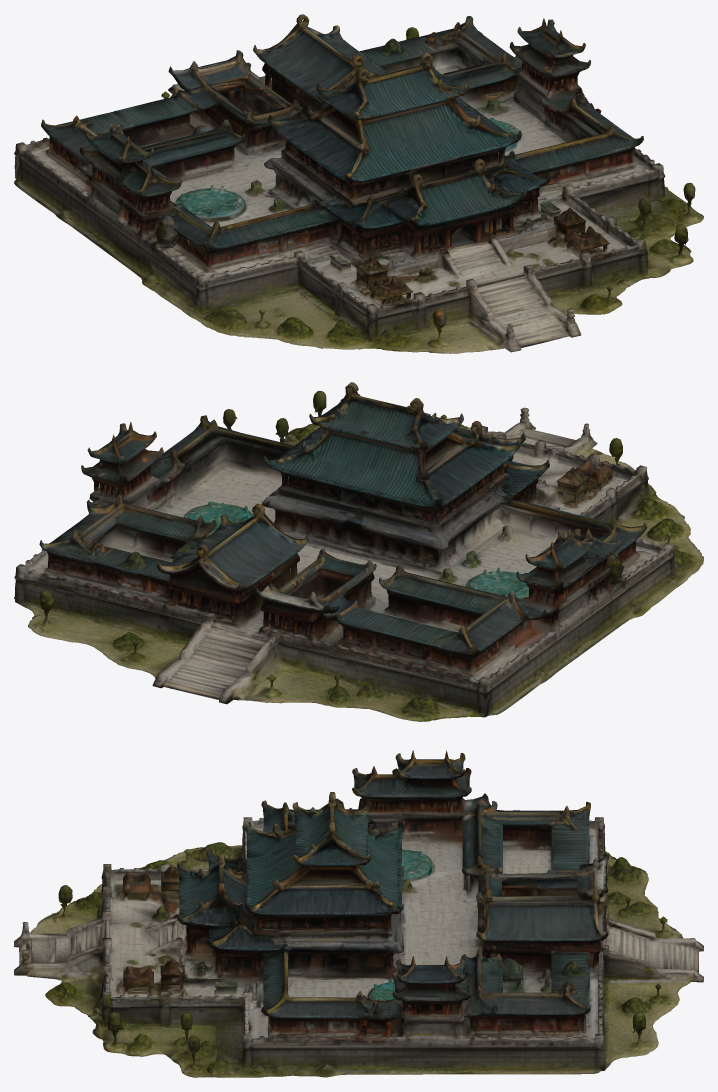
The model's file is XingqingPalace.glb.
The picture shows the model from 3 angles, top to bottom: view 1: azimuth 30°, elevation 25°; view 2: azimuth 150°, elevation 25°; view 3: azimuth 270°, elevation 25°; orthographic projection. The views are drawn at different scales.
Parts seen in each view (by area): view 1: node_0; view 2: node_0; view 3: node_0.
Boxes of the visible parts, x1=… form: node_0: x1=14, y1=14, x2=703, y2=353; node_0: x1=14, y1=382, x2=703, y2=721; node_0: x1=14, y1=750, x2=703, y2=1077.
Size of the model in its own units: 0.8879 by 0.2789 by 1.11.
1 material, 1 textured.
